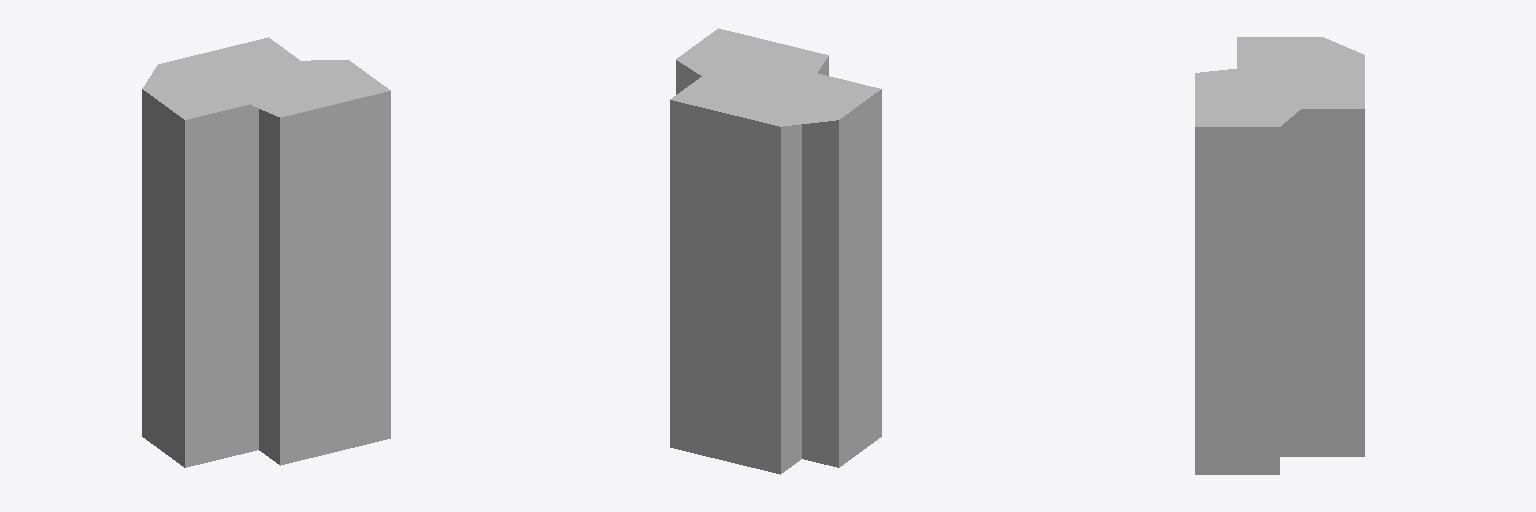
File: Bulding #5 Hitbox.obj
3 renders of one model, left to right at view 1: azimuth 30°, elevation 25°; view 2: azimuth 150°, elevation 25°; view 3: azimuth 270°, elevation 25°, orthographic.
Visible parts, largest first — view 1: Base.002; view 2: Base.002; view 3: Base.002.
Boxes of the visible parts, x1=… form: Base.002: x1=142, y1=37, x2=390, y2=467; Base.002: x1=670, y1=28, x2=881, y2=474; Base.002: x1=1195, y1=37, x2=1364, y2=474.
Bounding box in the file's own units: 5 × 9 × 4.